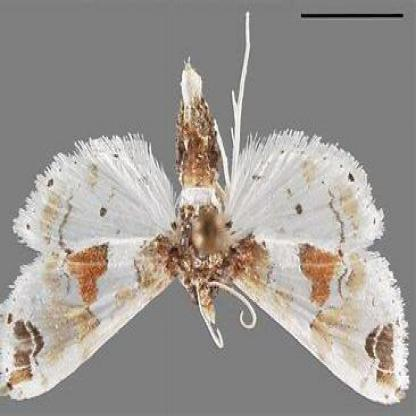leucinodes: (0, 62, 411, 407)
